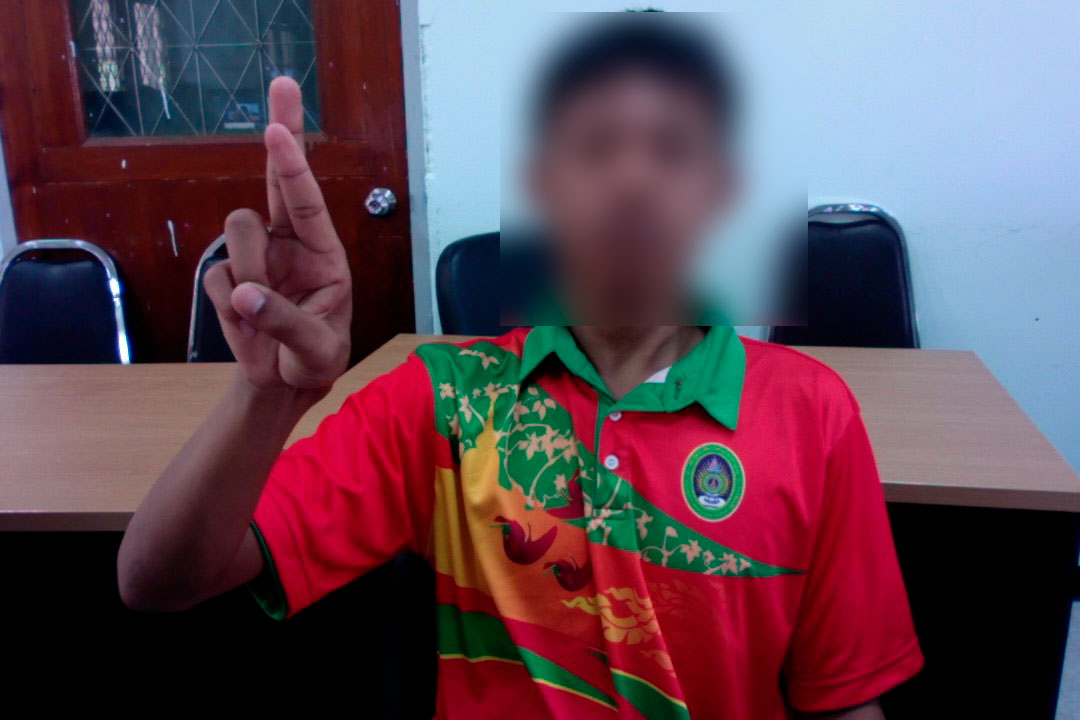rao: (195, 73, 374, 399)
